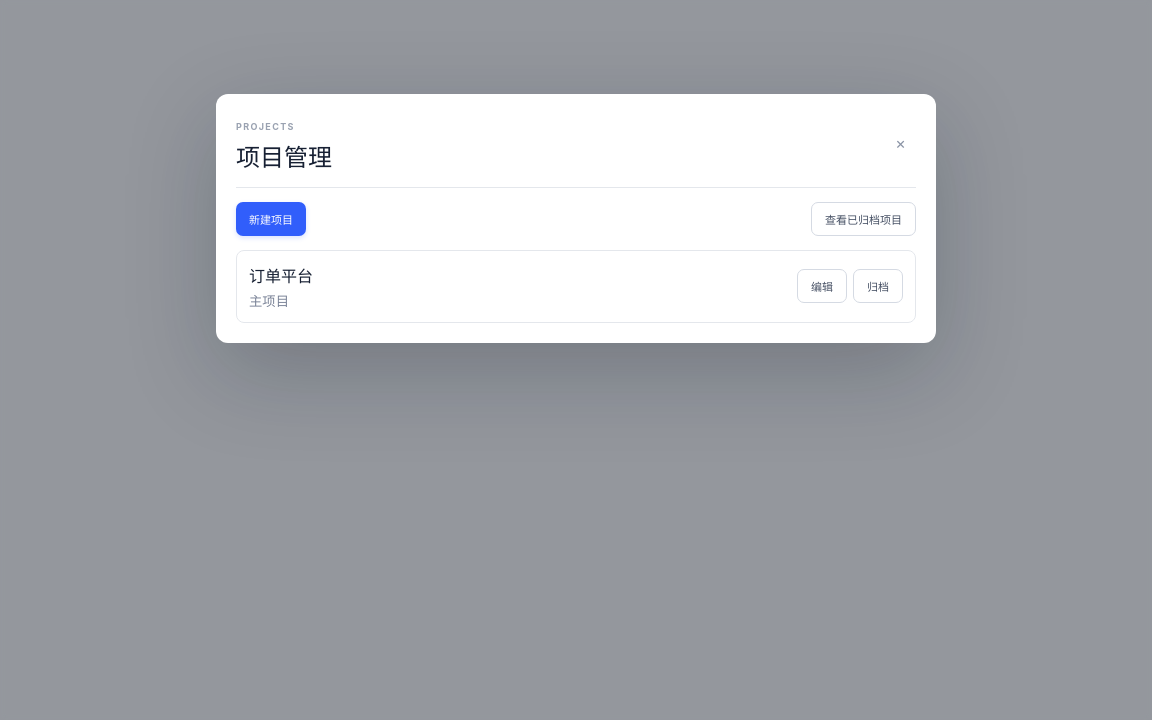
Test: 项目管理弹层 › 按错误 code 优先提示名称冲突，而不是笼统版本冲突
The width and height of the screenshot is (1152, 720).
Click the button "编辑": (822, 286) [797,269,847,303]
(page scrolled)
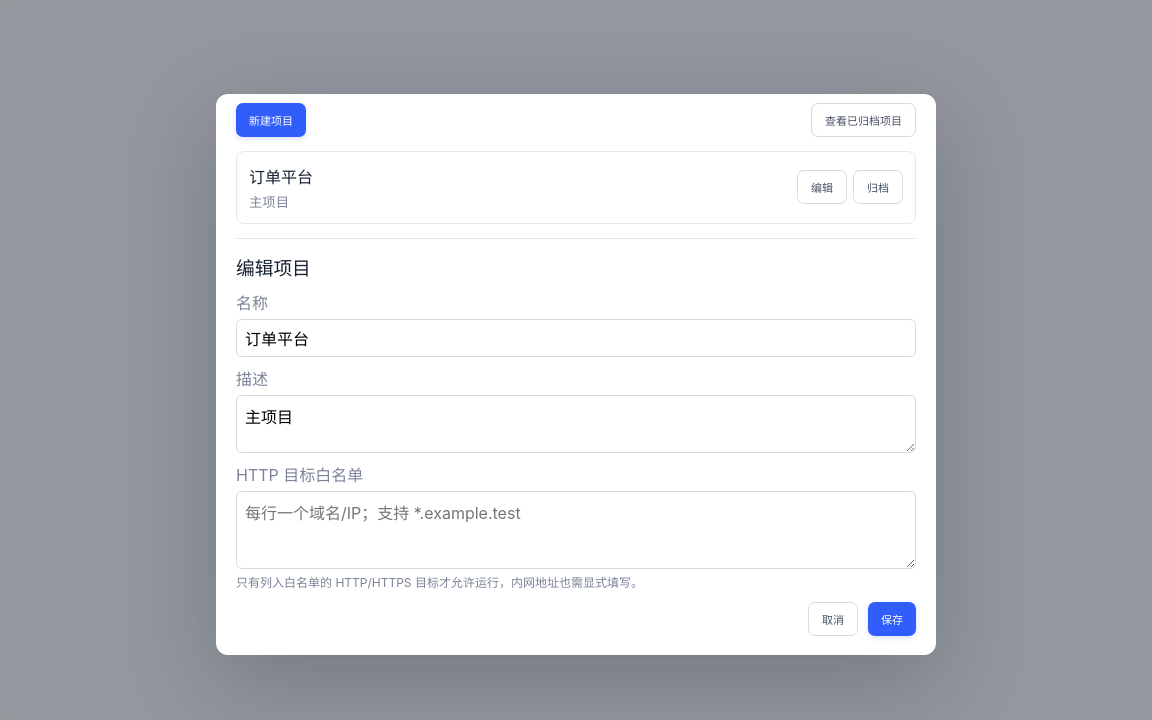
Submit the form, box [236,238,916,636]
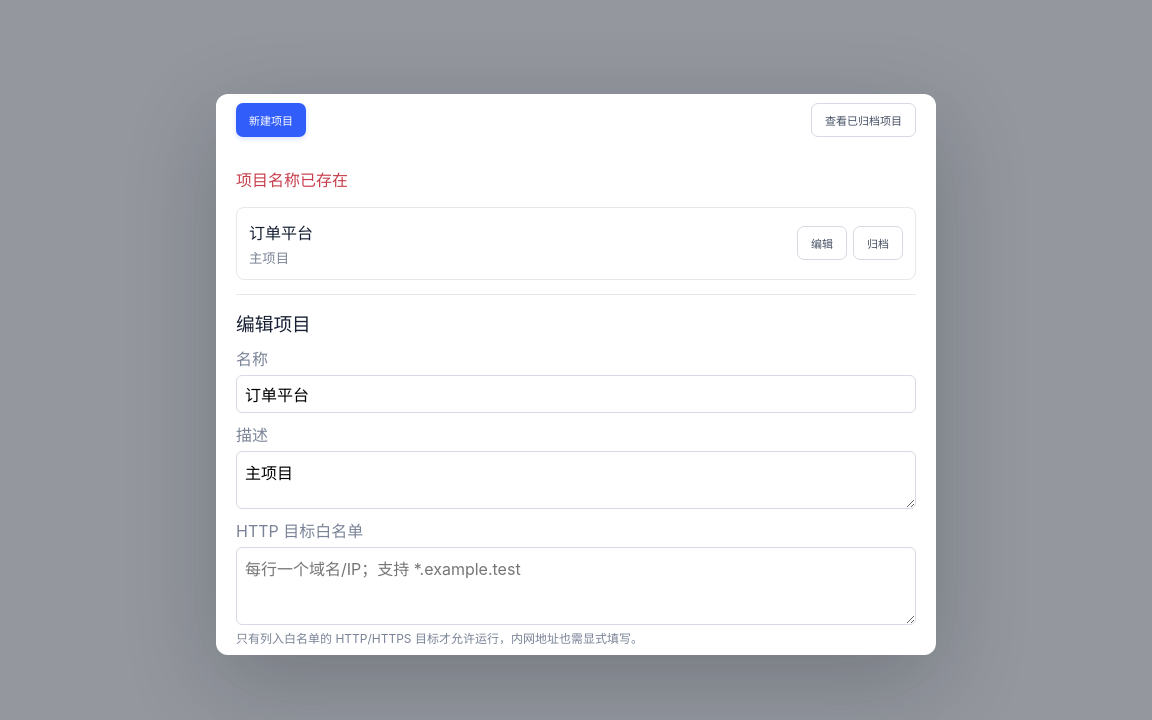
Result: the text "项目名称已存在" is shown at [236,170,348,190]
